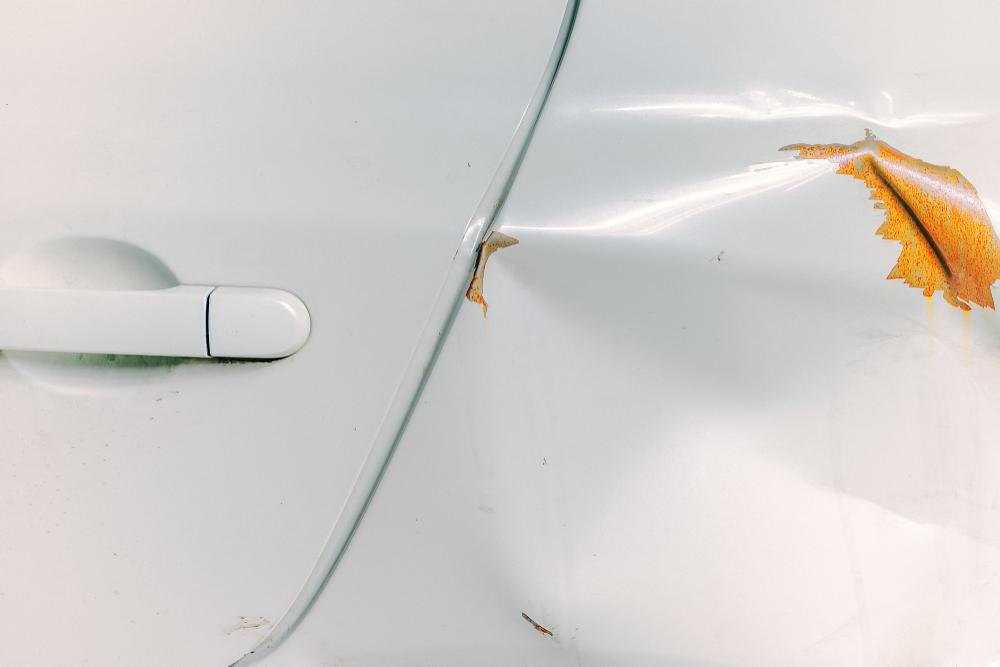dent: (471, 59, 1000, 667)
